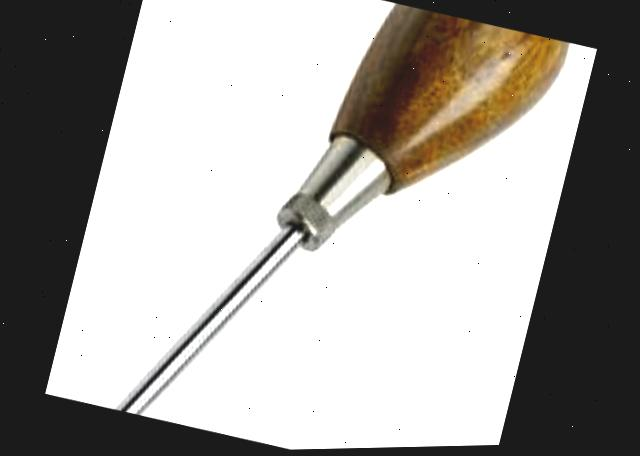ice pick: (43, 0, 568, 455)
